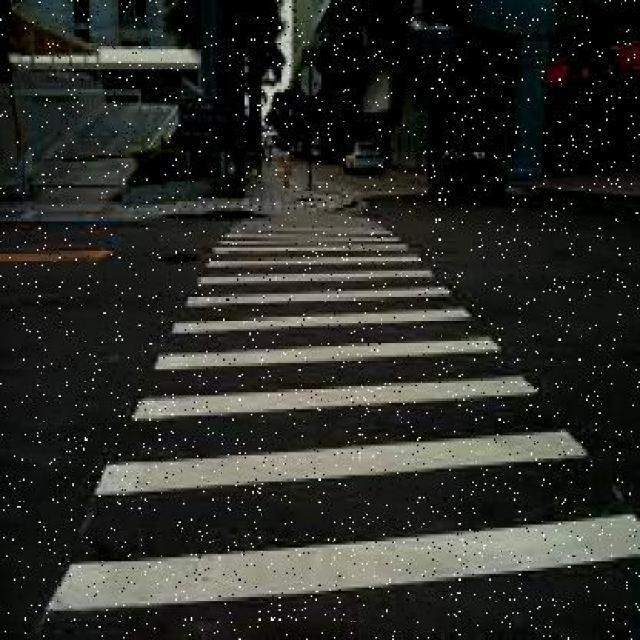intact_crosswalk: (46, 212, 640, 614)
